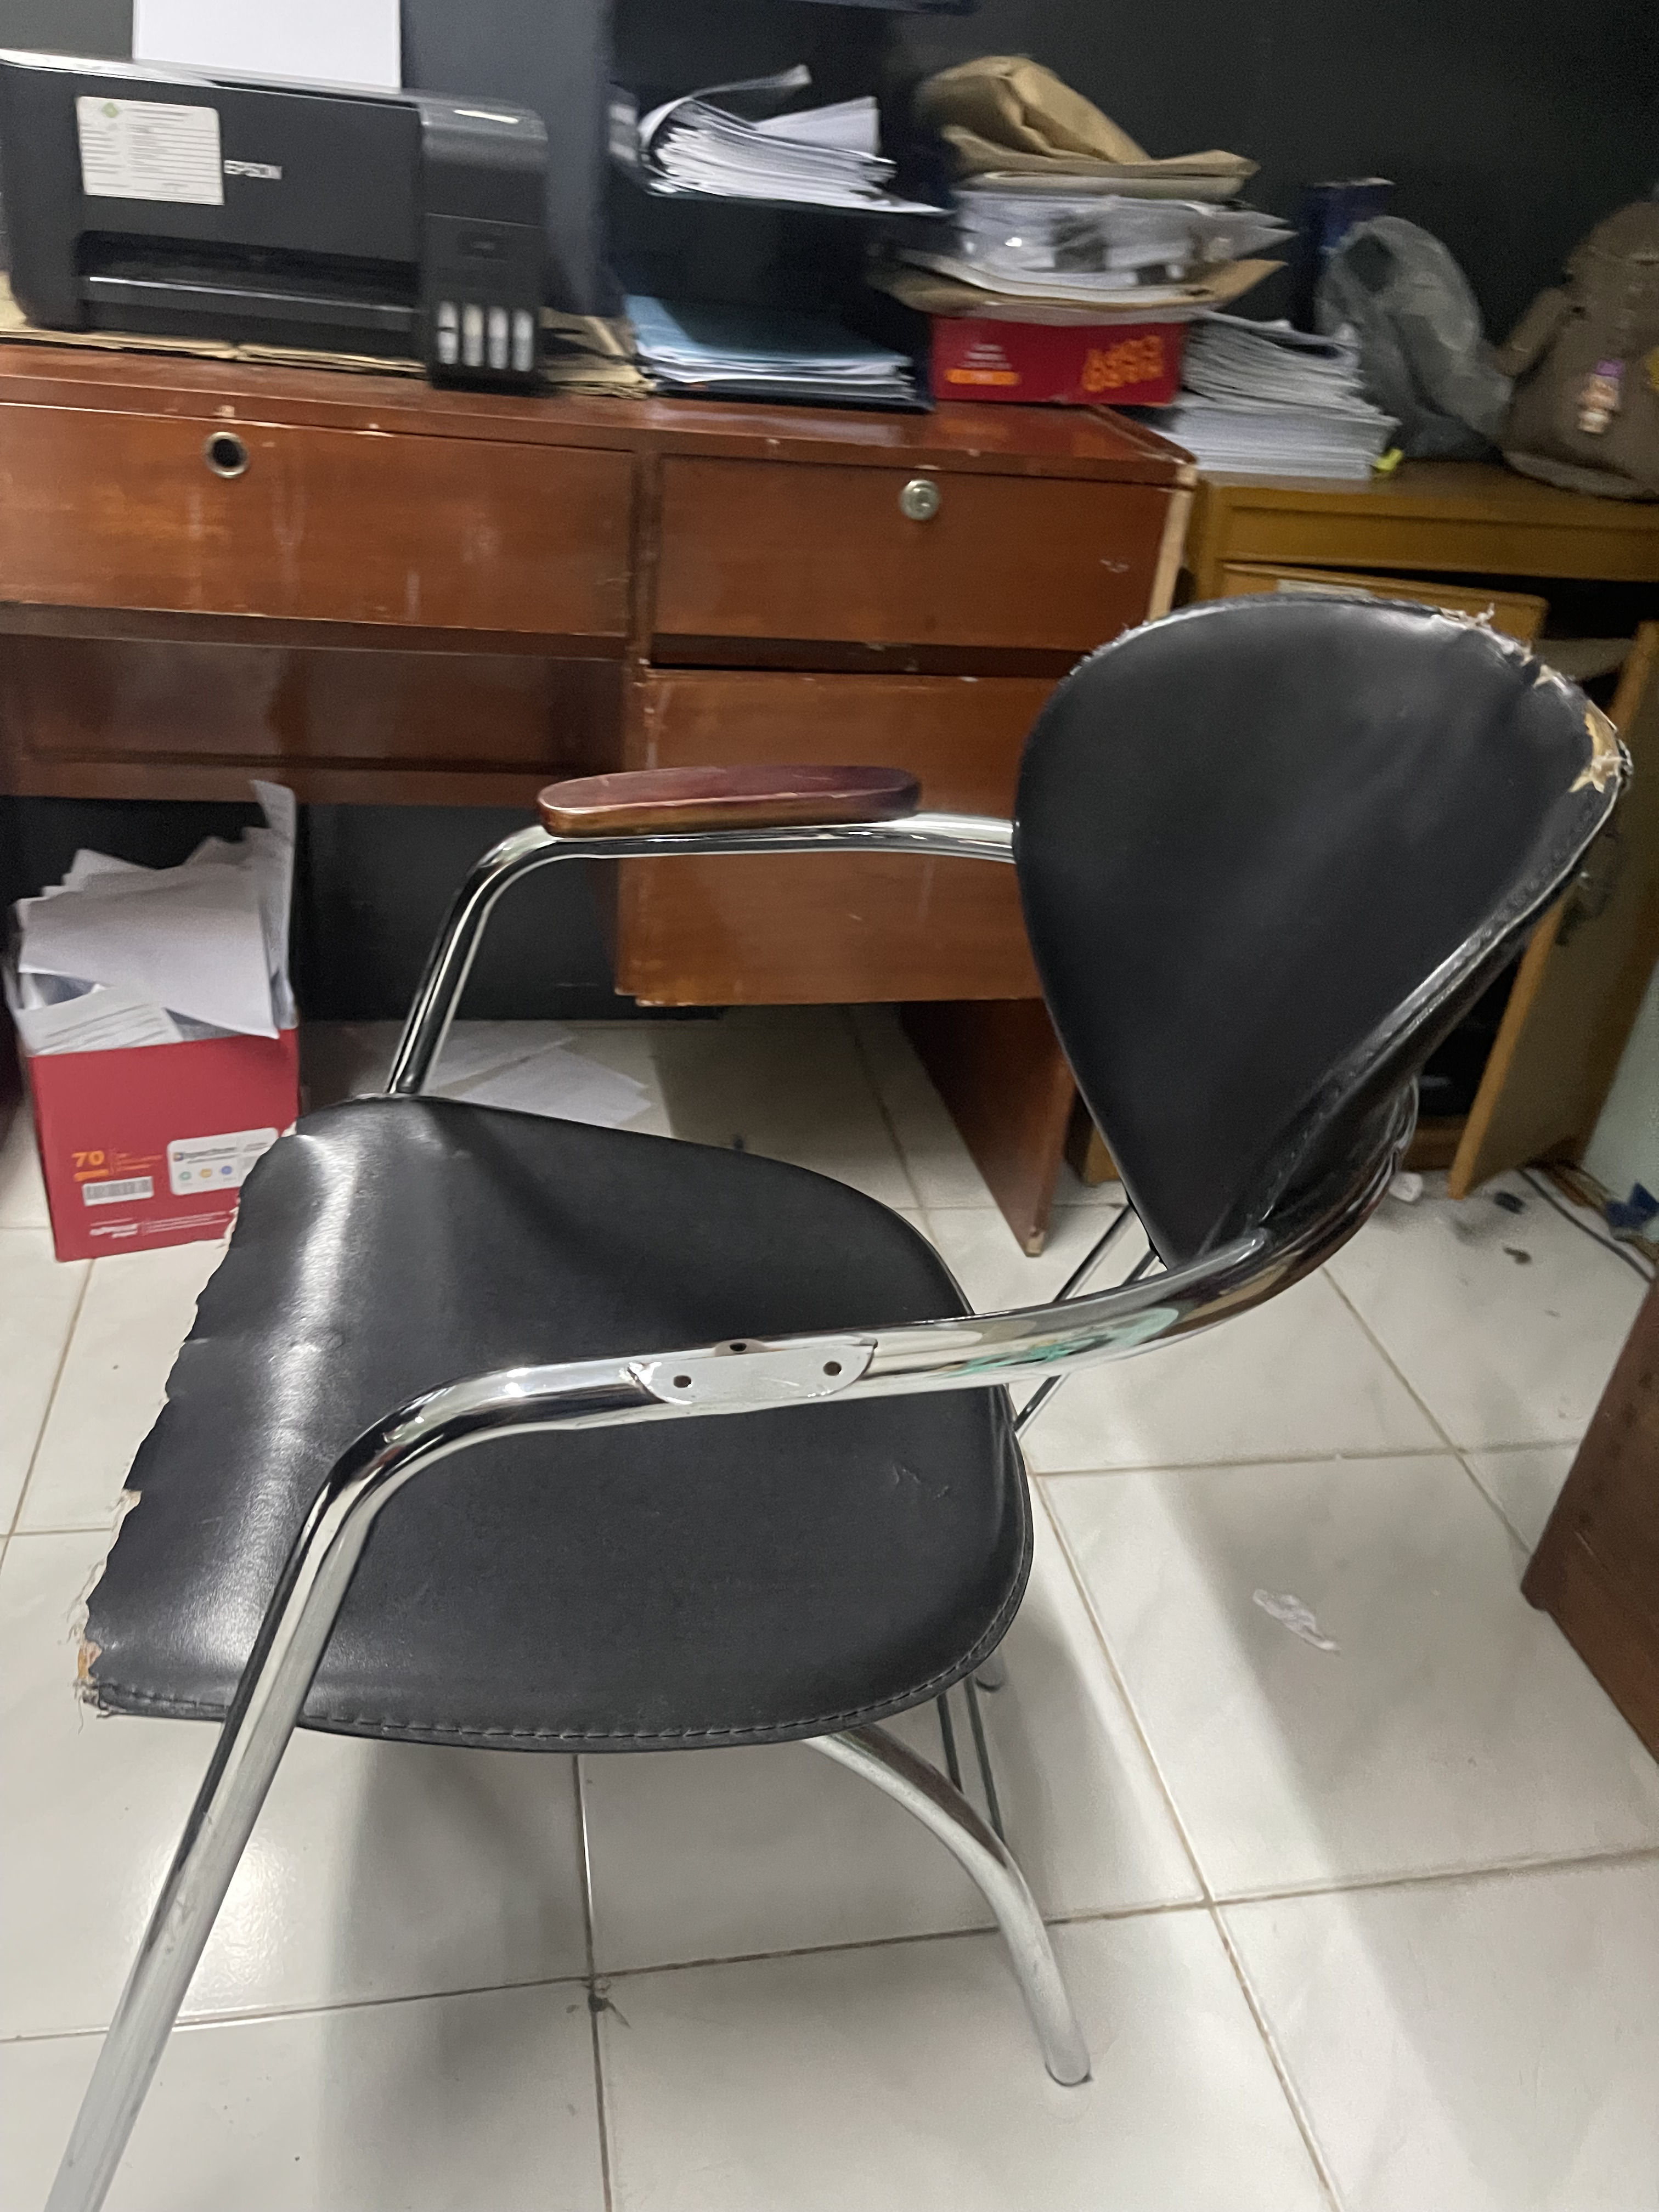chair1: (54, 585, 1640, 2212)
